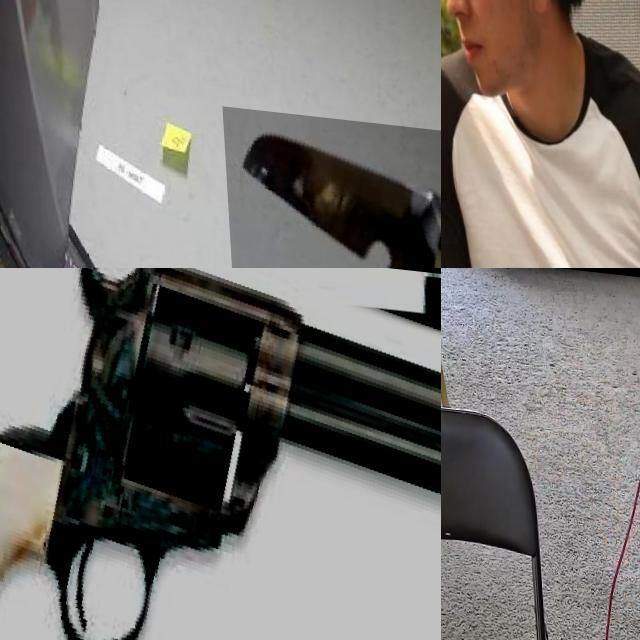-: (218, 99, 441, 268), (441, 101, 478, 268)
gun-knife-thesis - v11 Yolov5 augmented: (0, 268, 441, 640)
